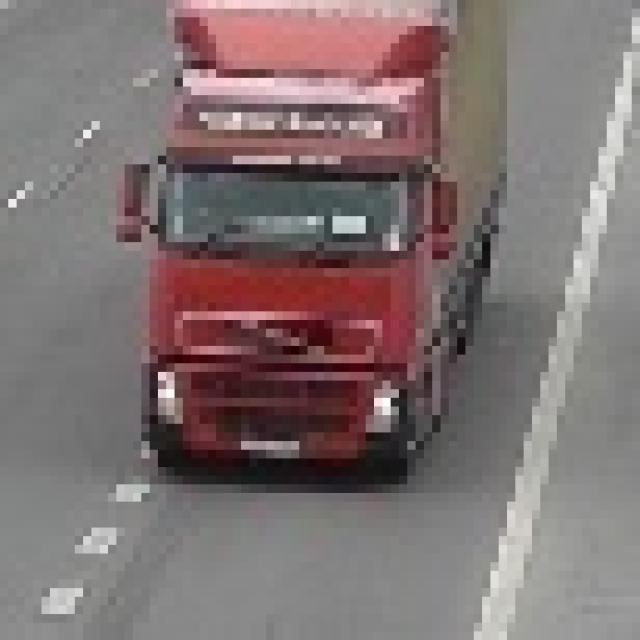TRUCK: (124, 4, 524, 506)
